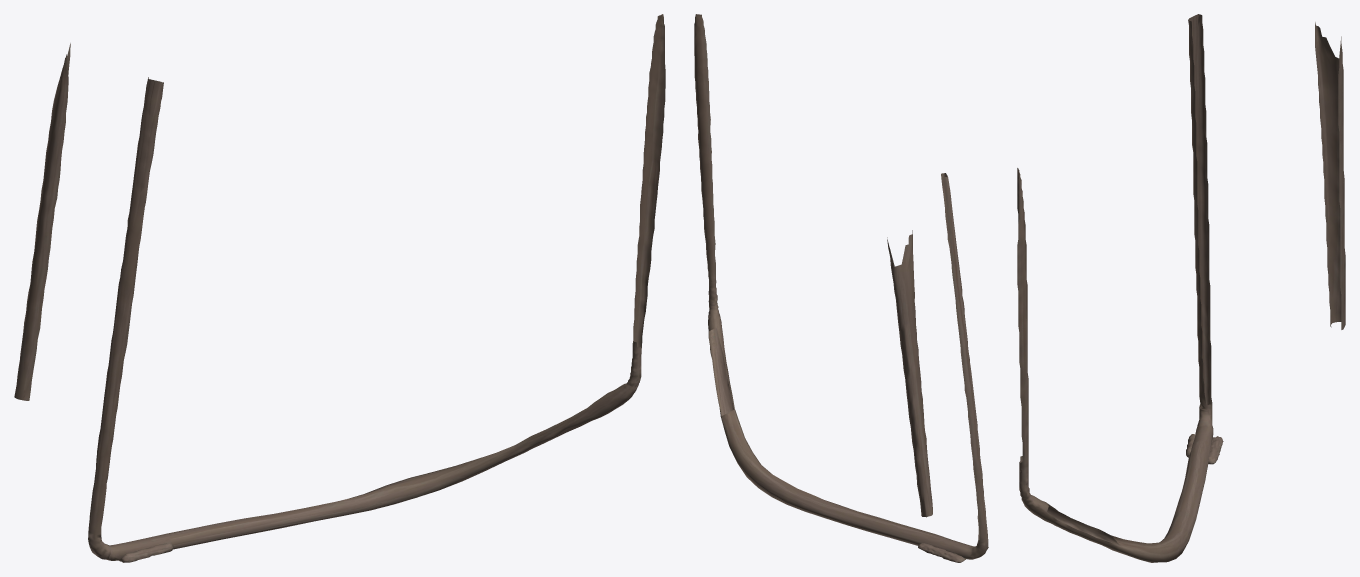
Rendered from grey-plastic-sled-chair.glb.
3 renders of one model, left to right at view 1: azimuth 30°, elevation 25°; view 2: azimuth 150°, elevation 25°; view 3: azimuth 270°, elevation 25°, orthographic. The views are drawn at different scales.
Parts seen in each view (by area): view 1: Grey Plastic Sled Chair; view 2: Grey Plastic Sled Chair; view 3: Grey Plastic Sled Chair.
Part boxes in pixels (x1,y1,x2,y2): Grey Plastic Sled Chair: (14,14,665,562); Grey Plastic Sled Chair: (694,14,988,562); Grey Plastic Sled Chair: (1017,14,1345,562).
Size of the model in its own units: 0.9746 by 0.998 by 0.6309.
1 material, 1 textured.
